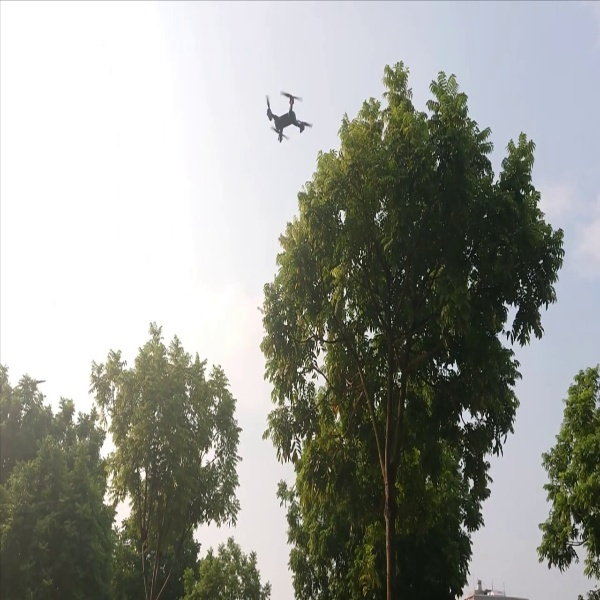drone: (251, 84, 319, 148)
